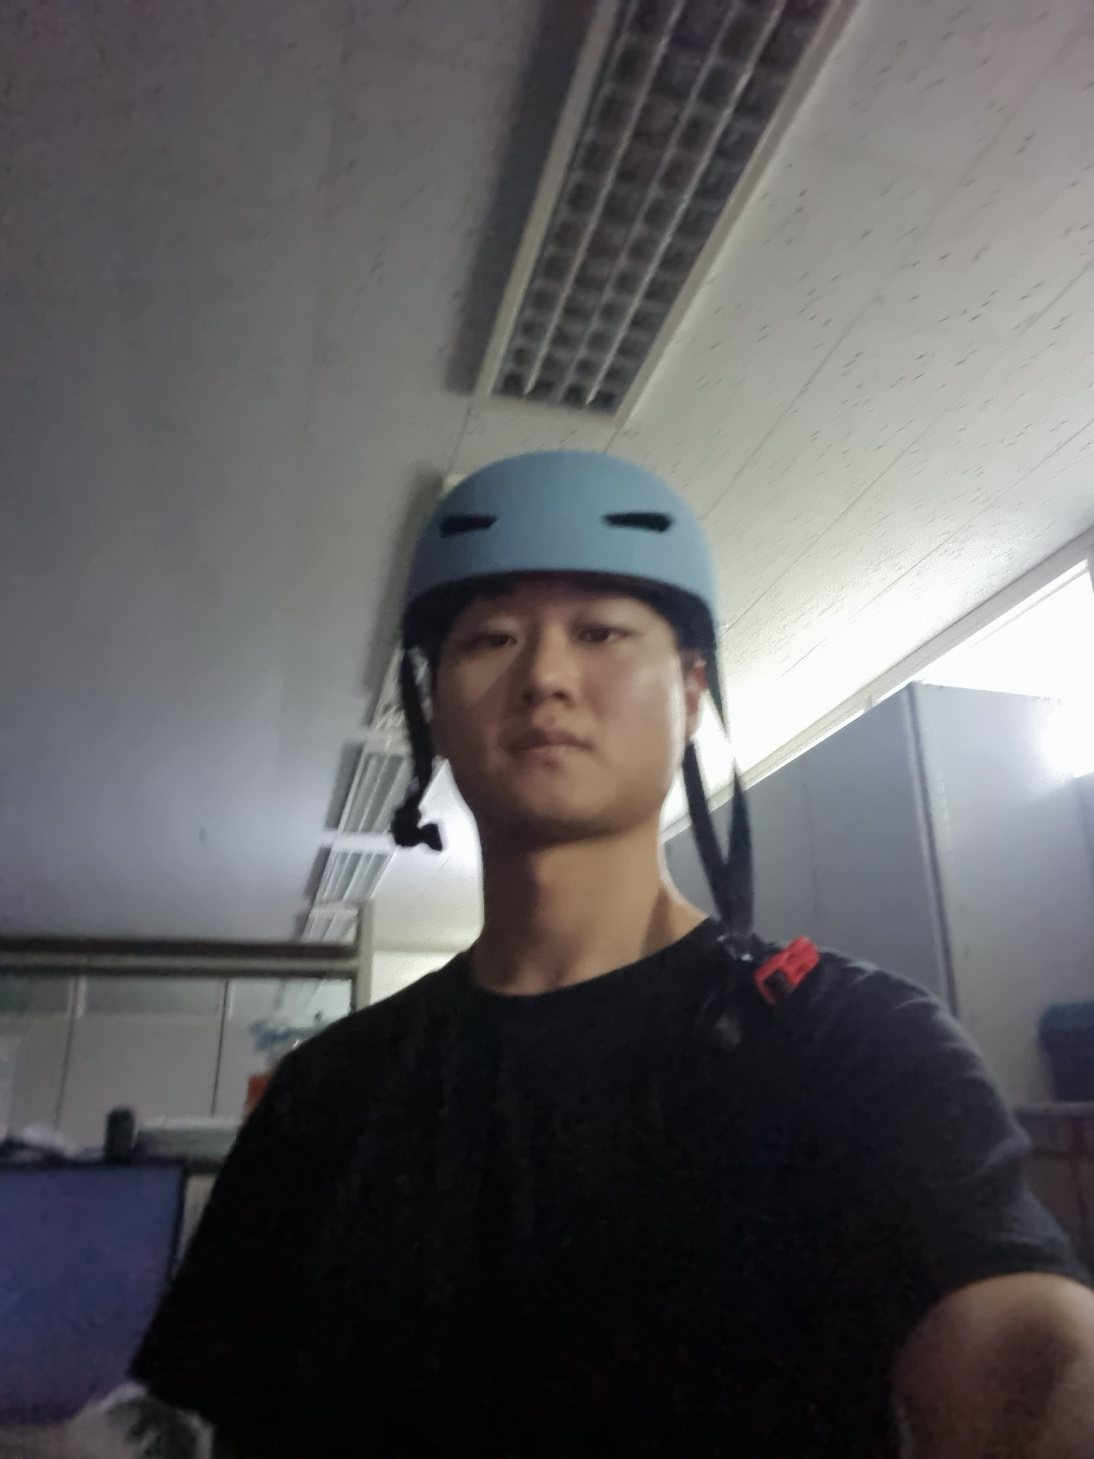Helmet: (319, 396, 770, 865)
